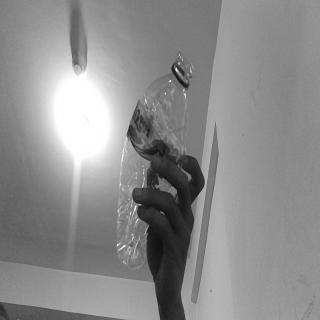plastic_bottles: (118, 52, 195, 270)
